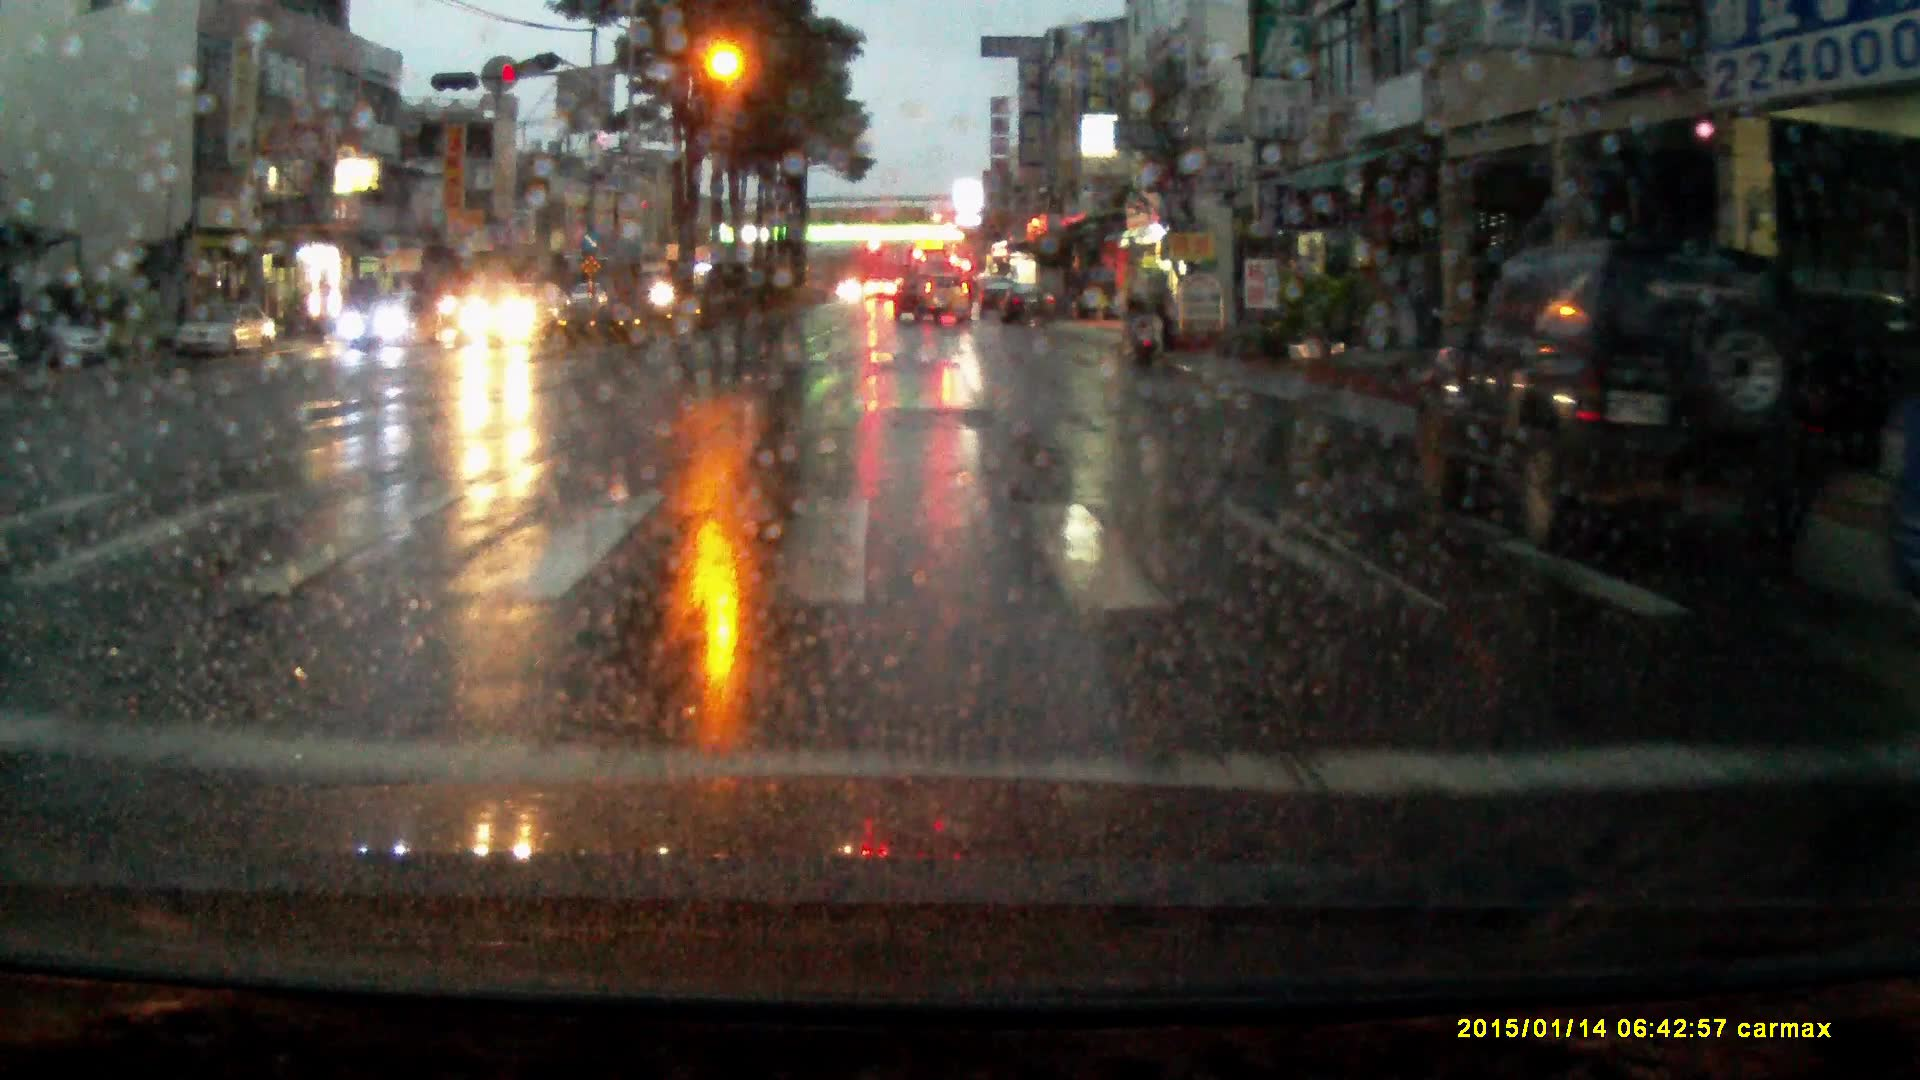vehicle: (1415, 240, 1841, 535), (462, 277, 563, 348), (175, 295, 282, 357), (342, 291, 443, 353), (30, 305, 107, 372), (893, 270, 971, 324), (909, 248, 951, 311), (997, 284, 1058, 326), (978, 274, 1011, 316), (571, 281, 611, 314), (864, 278, 901, 303)
